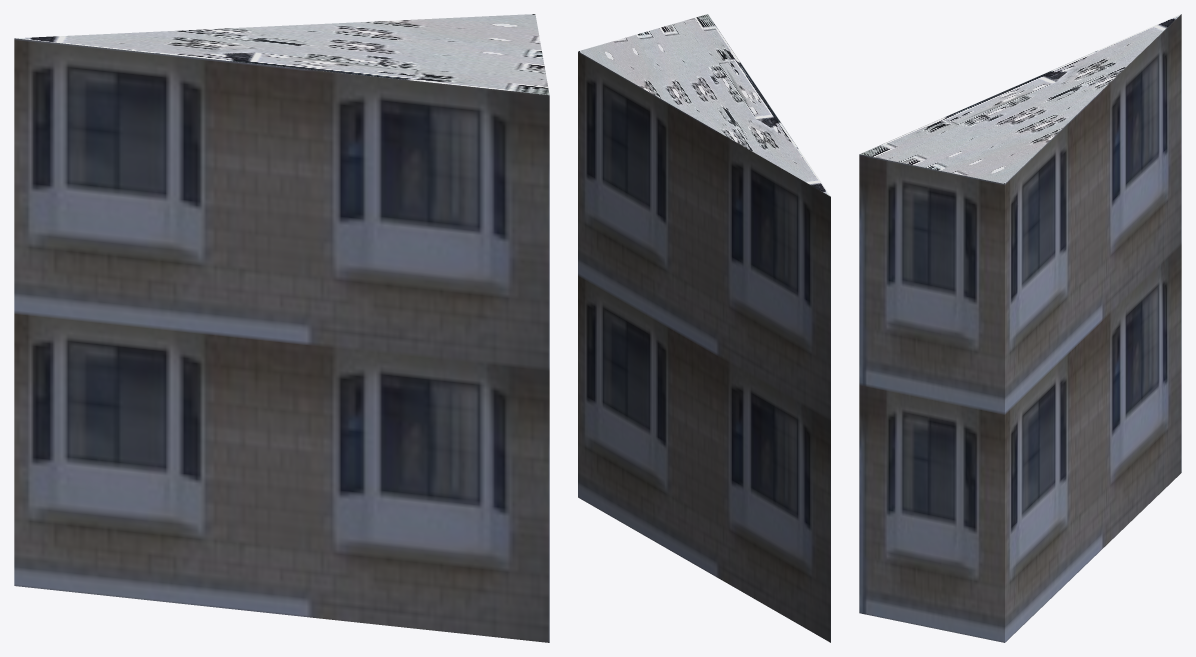
File: ResTex__5174.fbx
The picture shows the model from 3 angles, left to right: view 1: azimuth 30°, elevation 25°; view 2: azimuth 150°, elevation 25°; view 3: azimuth 270°, elevation 25°; orthographic projection. The views are drawn at different scales.
Visible parts, largest first — view 1: CityEngineMaterial_3_m, CityEngineMaterial_4_m; view 2: CityEngineMaterial_3_m, CityEngineMaterial_4_m; view 3: CityEngineMaterial_3_m, CityEngineMaterial_4_m.
Part boxes in pixels (x1=…): CityEngineMaterial_3_m: x1=14, y1=38, x2=549, y2=642; CityEngineMaterial_4_m: x1=16, y1=14, x2=549, y2=95; CityEngineMaterial_3_m: x1=578, y1=51, x2=830, y2=642; CityEngineMaterial_4_m: x1=578, y1=14, x2=830, y2=196; CityEngineMaterial_3_m: x1=859, y1=14, x2=1181, y2=642; CityEngineMaterial_4_m: x1=860, y1=14, x2=1180, y2=183.
Bounding box in the file's own units: 4.77 × 6 × 3.82.
2 materials, 2 textured.
